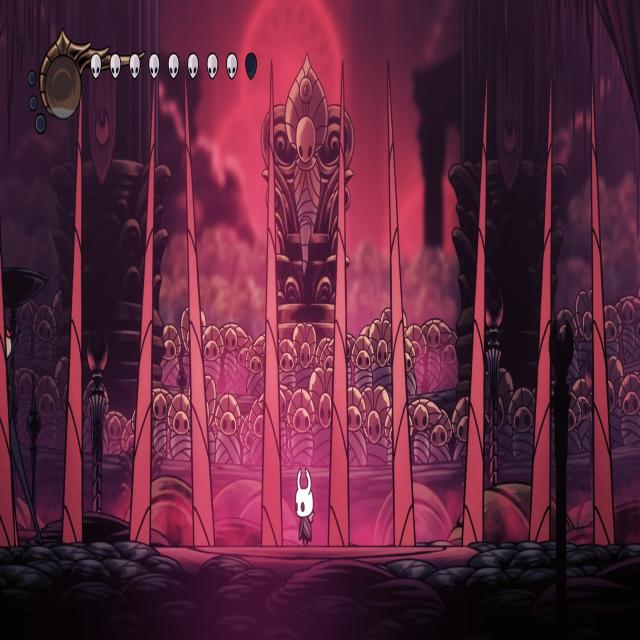Player: (293, 463, 319, 547)
Spikes: (382, 59, 414, 549), (184, 70, 215, 547), (462, 73, 486, 543), (328, 62, 351, 548), (529, 68, 552, 545), (592, 70, 615, 547), (130, 74, 153, 548), (260, 58, 282, 549), (62, 95, 84, 544), (0, 220, 18, 549)
